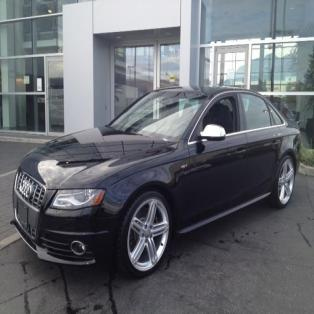Auto: (11, 87, 302, 279)
